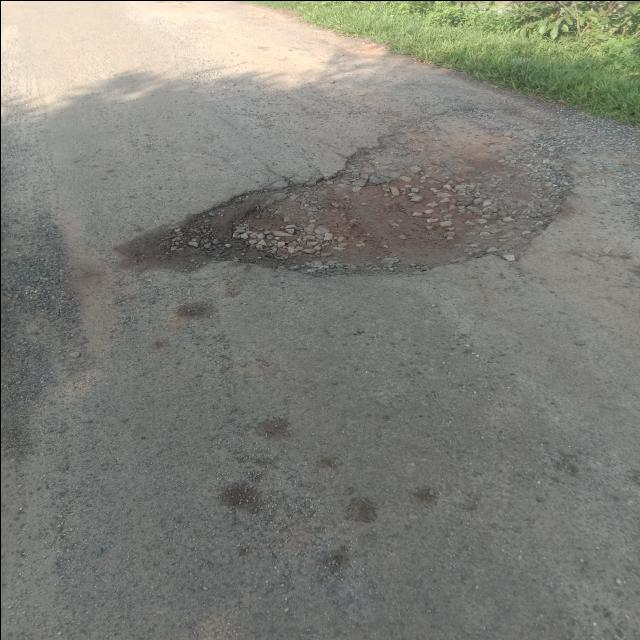potholes: (152, 102, 588, 278)
